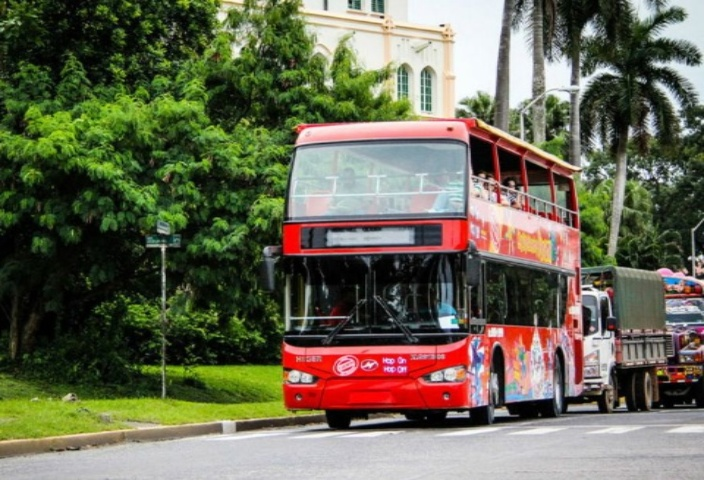bus: (271, 113, 589, 425)
truck: (580, 241, 675, 419)
